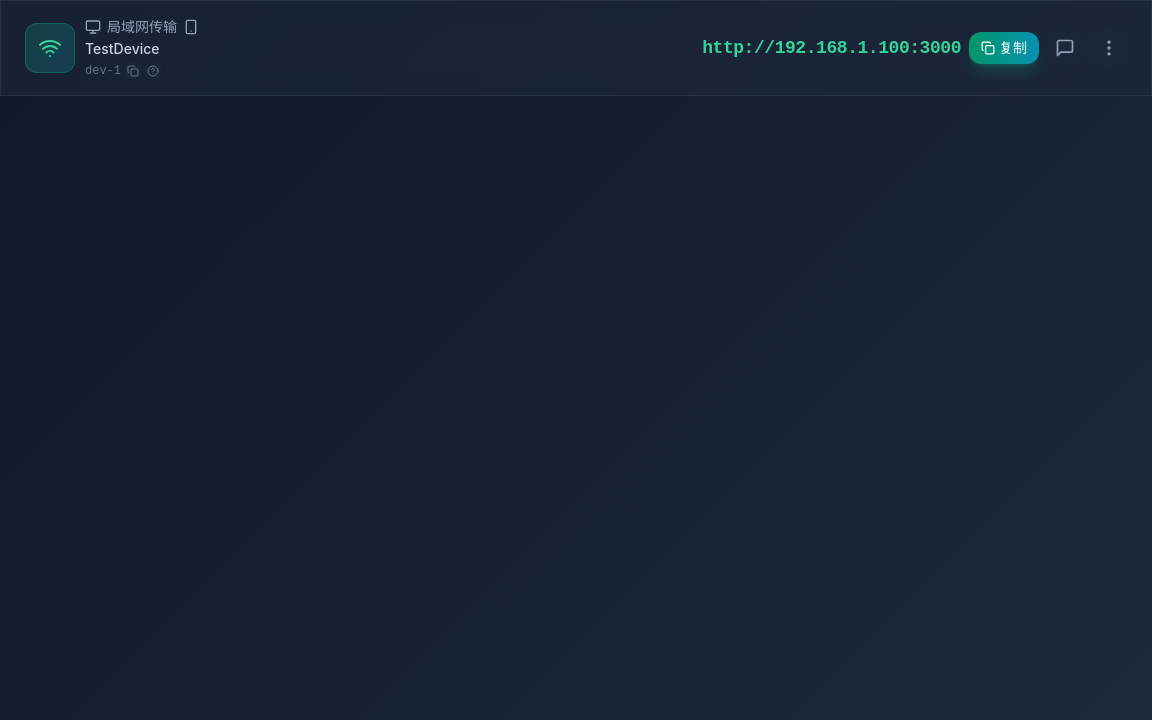
Test: NetworkBar › should show menu dropdown on menu click
Click the button titled "菜单" at (1109, 48), box [1091,30,1127,66]
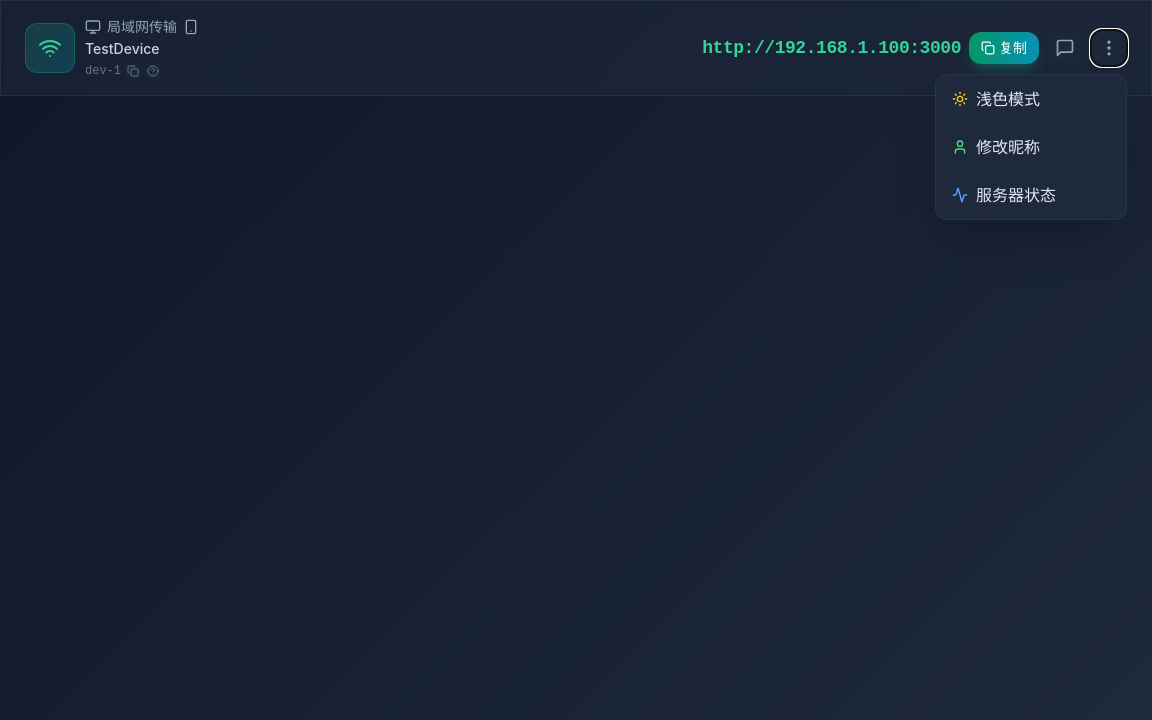
expect the text "修改昵称" is shown: met, box [976,135,1040,159]
